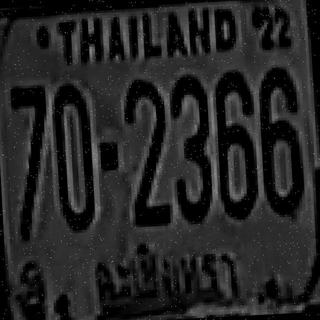N00: (258, 115, 302, 213)
P07: (80, 234, 254, 304)
